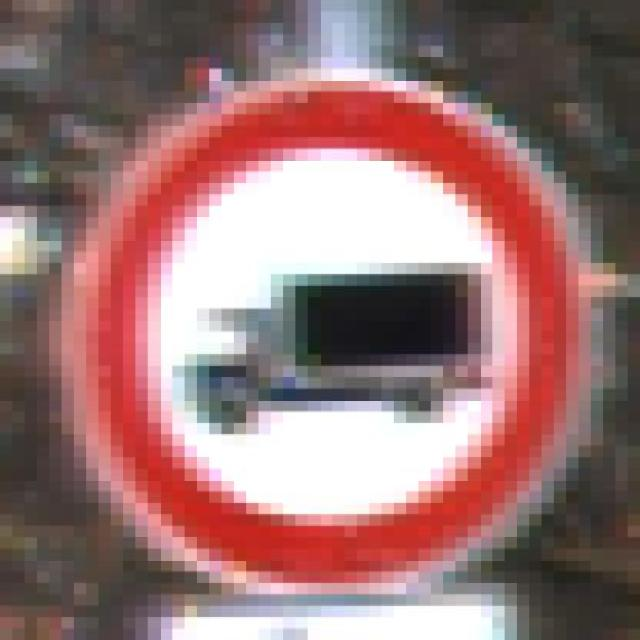Truck traffic is prohibited: (25, 34, 628, 629)
